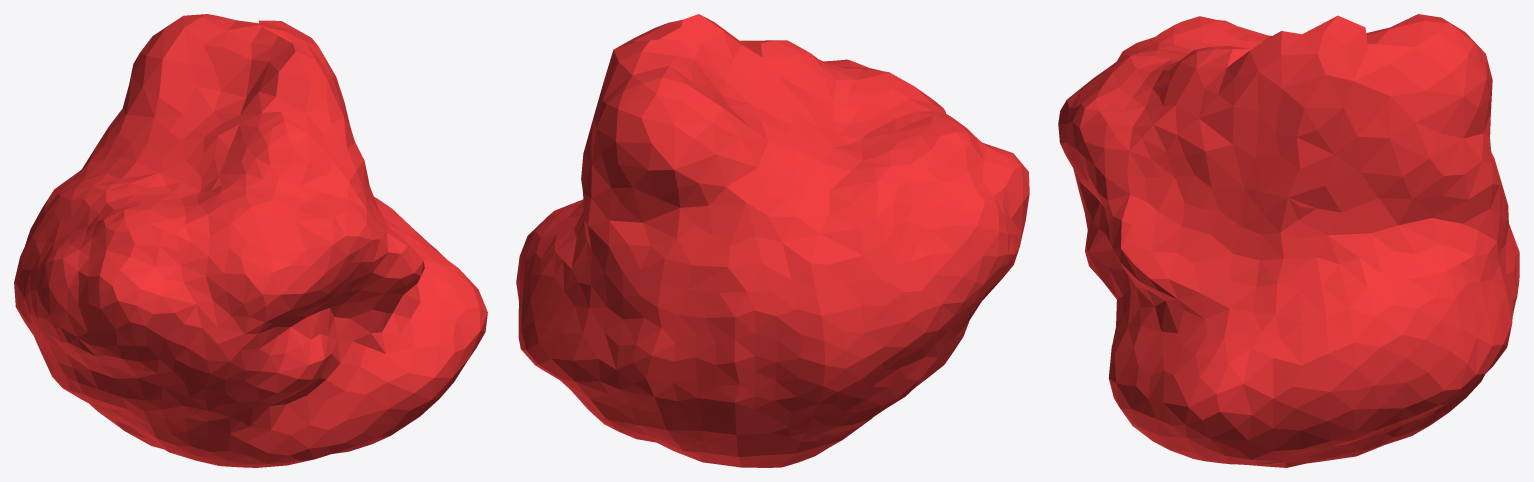
The model's file is Orb.fbx.
3 renders of one model, left to right at view 1: azimuth 30°, elevation 25°; view 2: azimuth 150°, elevation 25°; view 3: azimuth 270°, elevation 25°, orthographic. The views are drawn at different scales.
Parts seen in each view (by area): view 1: Sphere; view 2: Sphere; view 3: Sphere.
Boxes of the visible parts, x1,y1,x2,y2 form: Sphere: [14, 14, 487, 467]; Sphere: [516, 14, 1029, 467]; Sphere: [1058, 14, 1519, 467].
Bounding box in the file's own units: 306 × 272 × 259.
